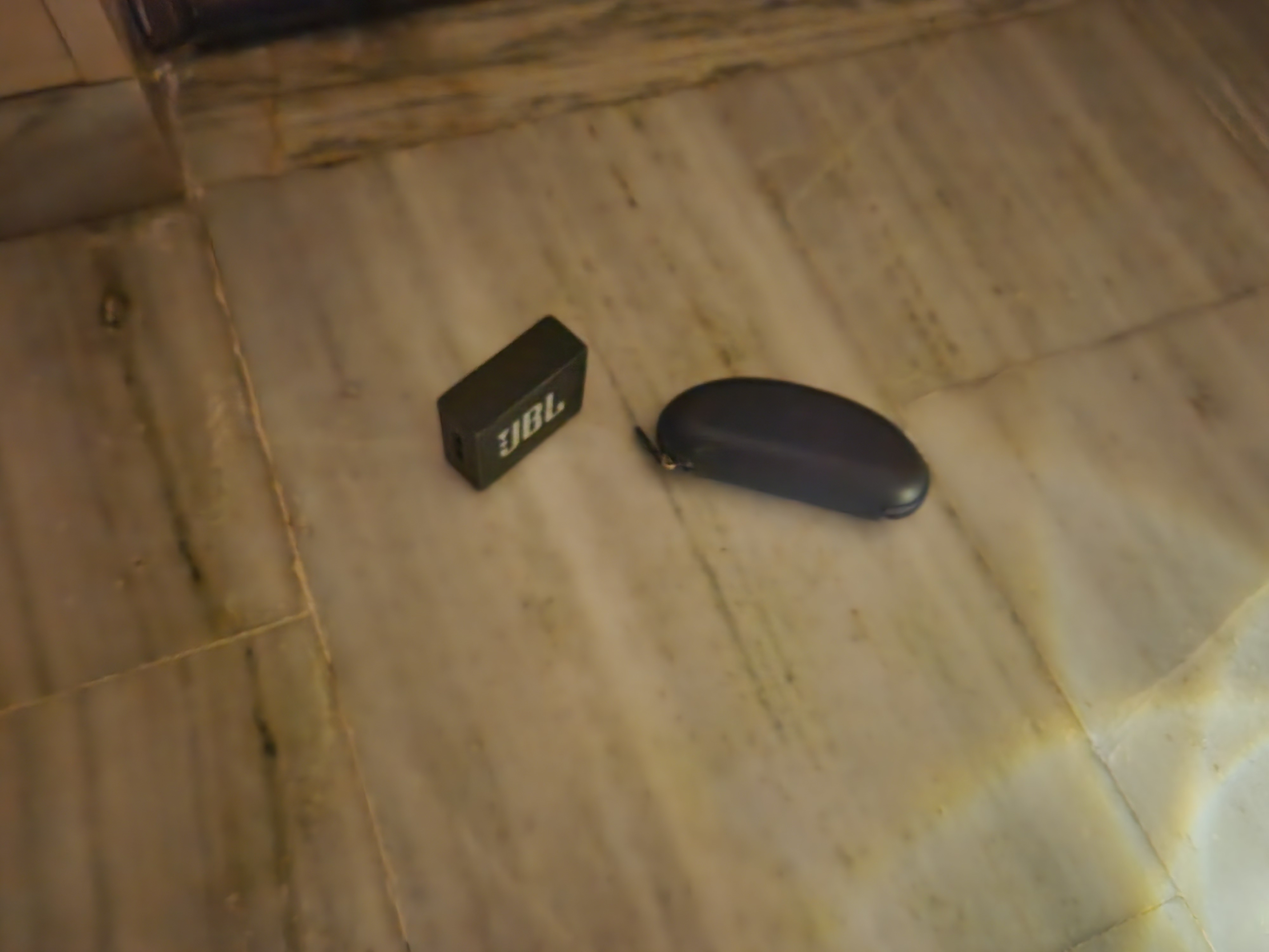case: (631, 377, 931, 521)
speaker: (434, 310, 588, 493)
